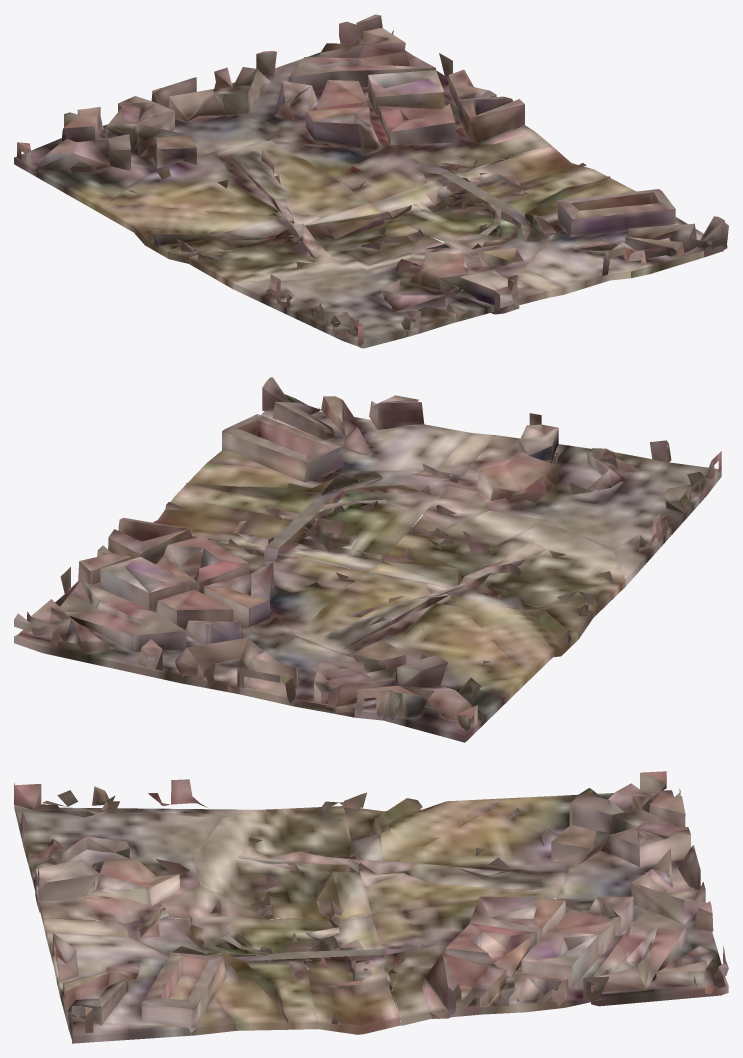
The picture shows the model from 3 angles, top to bottom: view 1: azimuth 30°, elevation 25°; view 2: azimuth 150°, elevation 25°; view 3: azimuth 270°, elevation 25°; orthographic projection. The views are drawn at different scales.
Visible parts, largest first — view 1: Mesh_0; view 2: Mesh_0; view 3: Mesh_0.
Boxes of the visible parts, left/top/right/bottom form: Mesh_0: left=14, top=14, right=728, bottom=348; Mesh_0: left=14, top=377, right=721, bottom=742; Mesh_0: left=14, top=771, right=728, bottom=1043.
Size of the model in its own units: 537 by 69.51 by 660.
Materials: 1 (1 with a texture image).
